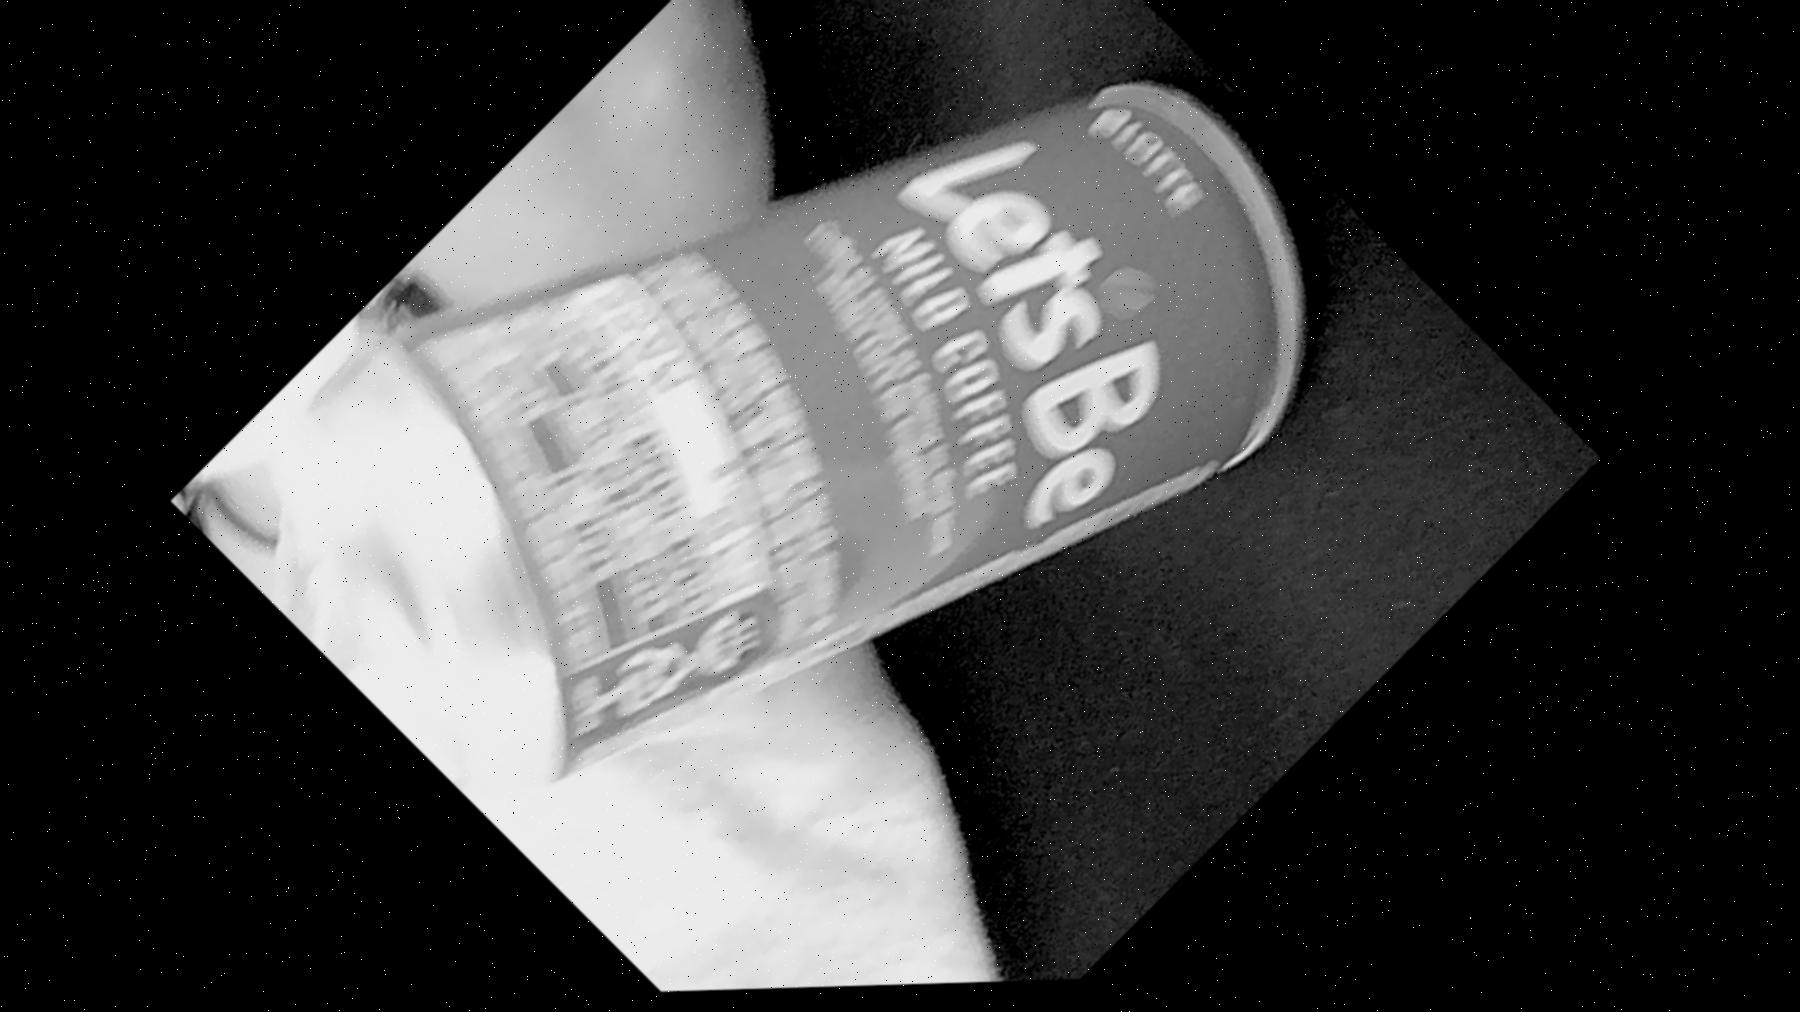letsbe: (200, 0, 1417, 1007)
